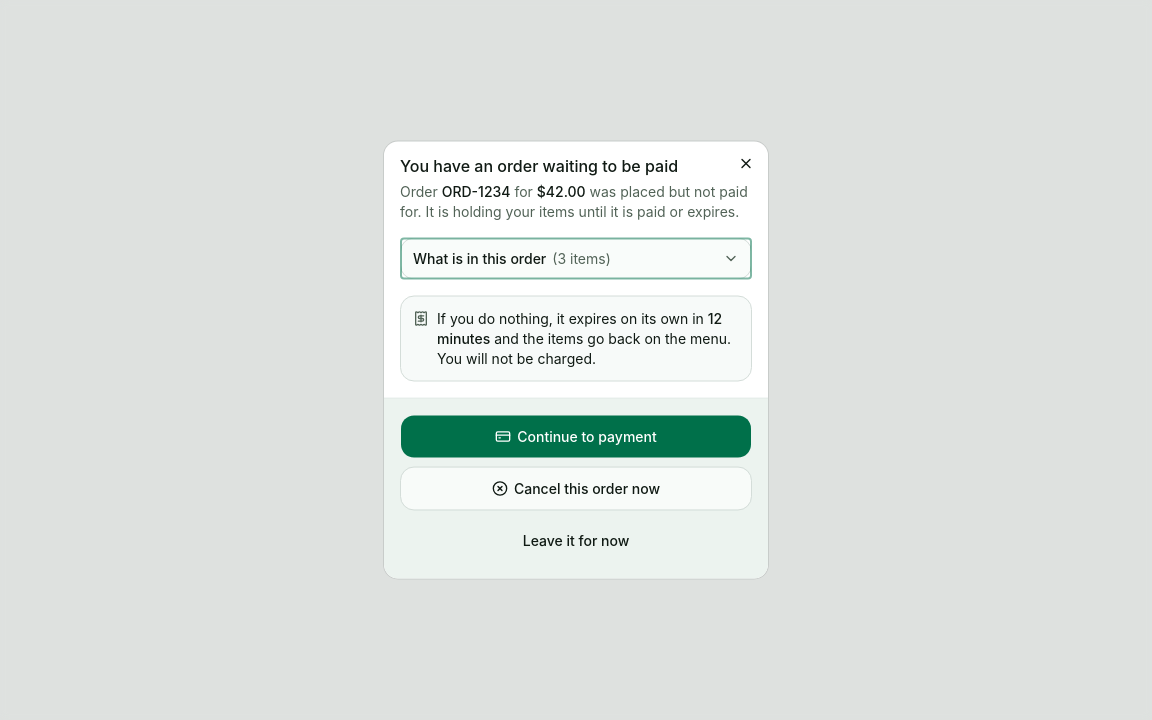
Test: telling a returning customer about their unpaid order › can be expanded to show what was ordered
The image size is (1152, 720).
Check: the text "What is in this order(3 items)" is shown, box top-left (413, 248), bottom-right (611, 268)
Check: the text "(3 items)" is shown, box top-left (552, 250), bottom-right (611, 266)
Click the heading "What is in this order(3 items)" at (576, 258), box top-left (413, 250), bottom-right (739, 266)
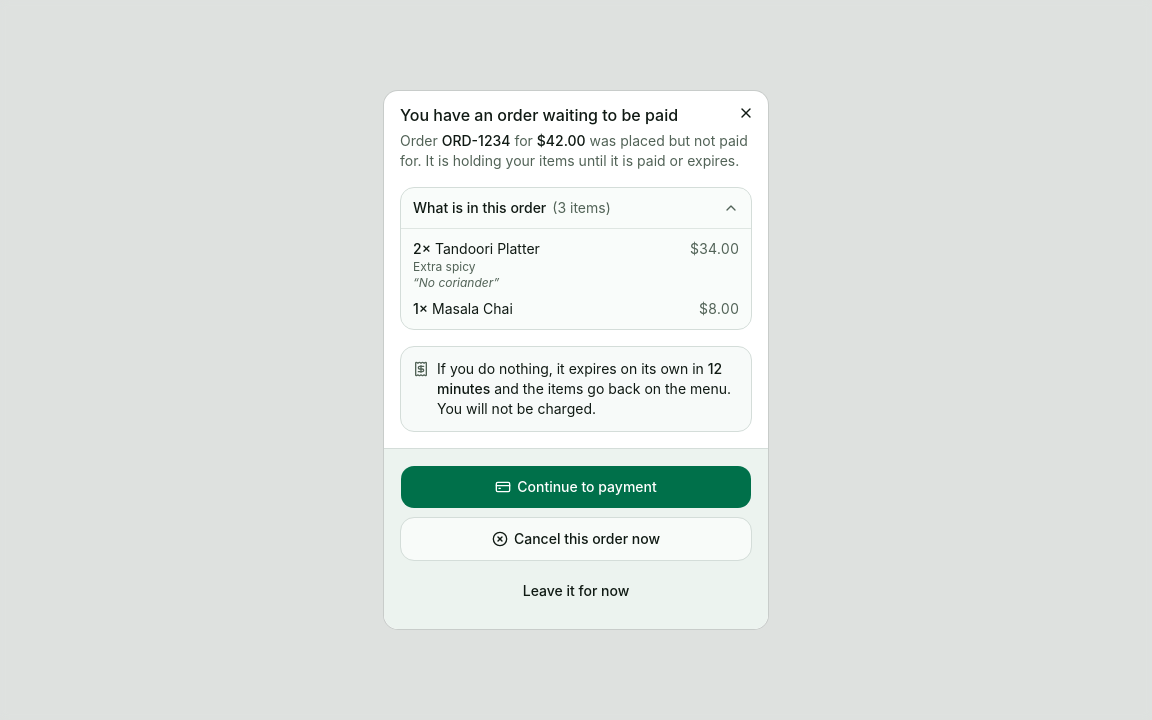
Check: the text "Tandoori Platter" is shown, box top-left (435, 240), bottom-right (540, 257)
Check: the text "Masala Chai" is shown, box top-left (432, 300), bottom-right (513, 317)
Check: the text "Extra spicy" is shown, box top-left (413, 259), bottom-right (476, 274)
